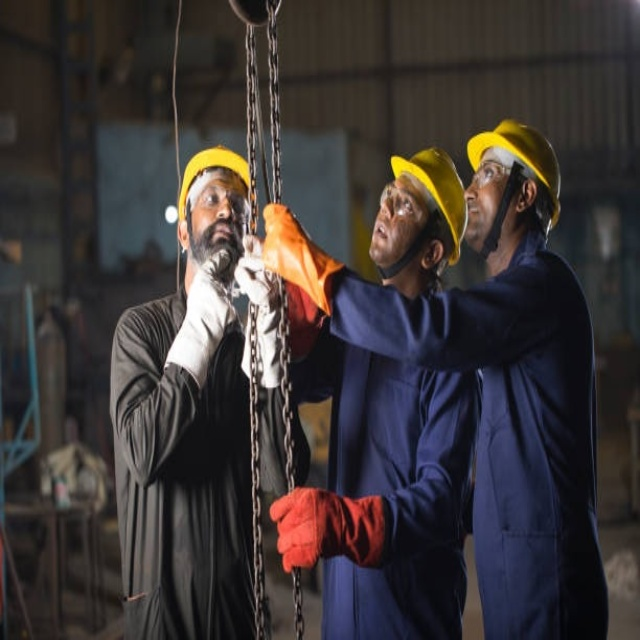Gafas: (178, 146, 255, 228), (378, 183, 429, 226), (468, 162, 514, 191)
Guantes: (261, 196, 349, 328), (270, 485, 385, 571), (166, 256, 239, 391), (235, 249, 287, 386)
Sin_mascara: (372, 218, 396, 260), (203, 223, 231, 256), (463, 201, 488, 235)
